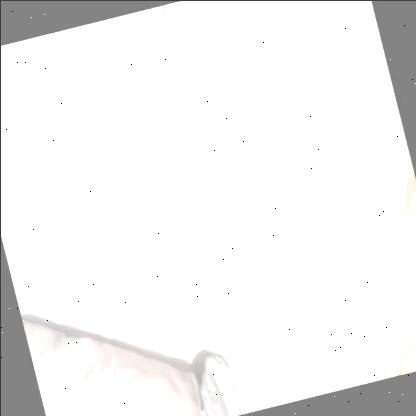Others: (128, 0, 360, 352)
